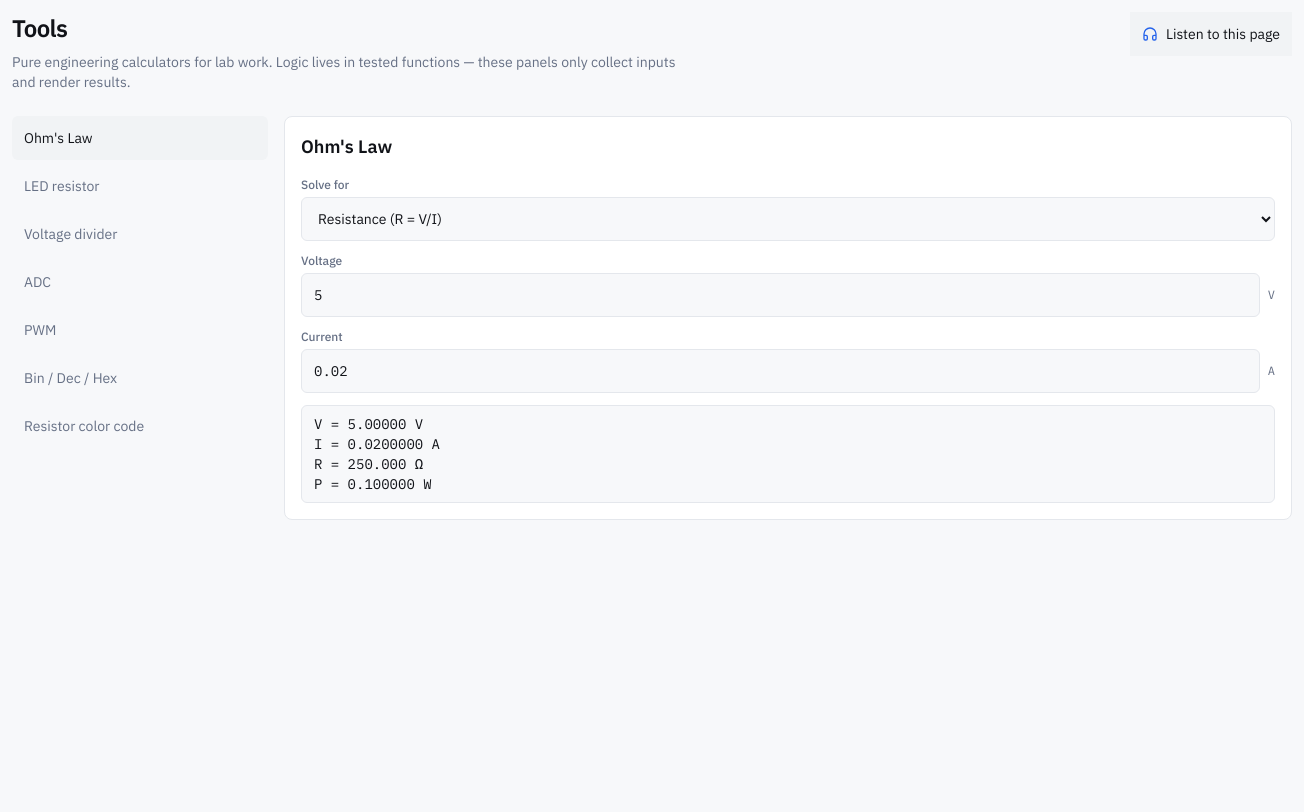
Test case: ToolsPage › switches calculators and computes Ohm’s law
The width and height of the screenshot is (1304, 812).
Expected: the heading "Tools" is shown, [12, 12, 67, 44]
Expected: the heading "Ohm's Law" is shown, [301, 135, 392, 158]
Click the button "LED resistor" at (140, 186), box [12, 164, 268, 208]
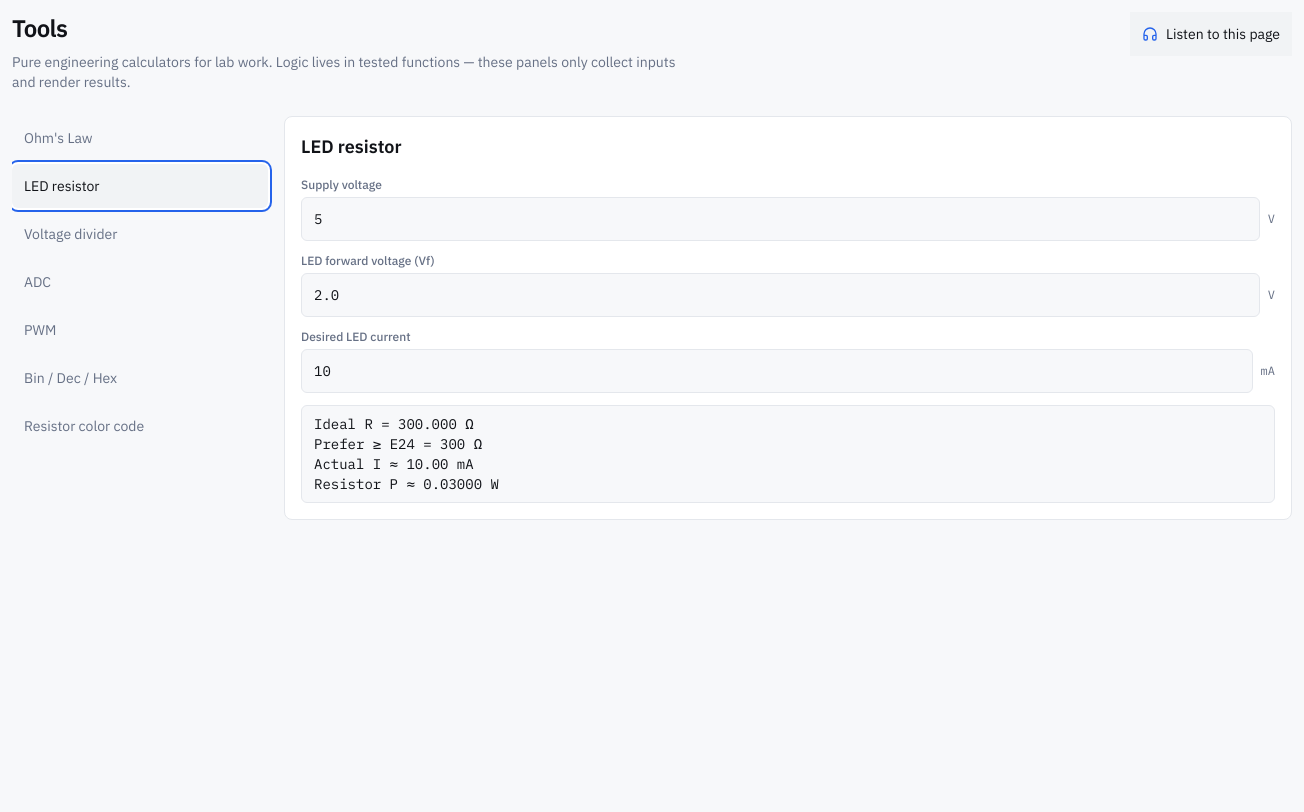
Expected: the heading "LED resistor" is shown, [301, 135, 402, 158]
Expected: the text "Ideal R = 300.000 Ω" is shown, [314, 415, 474, 433]
Click the button "Resistor color code" at (140, 426), box [12, 404, 268, 448]
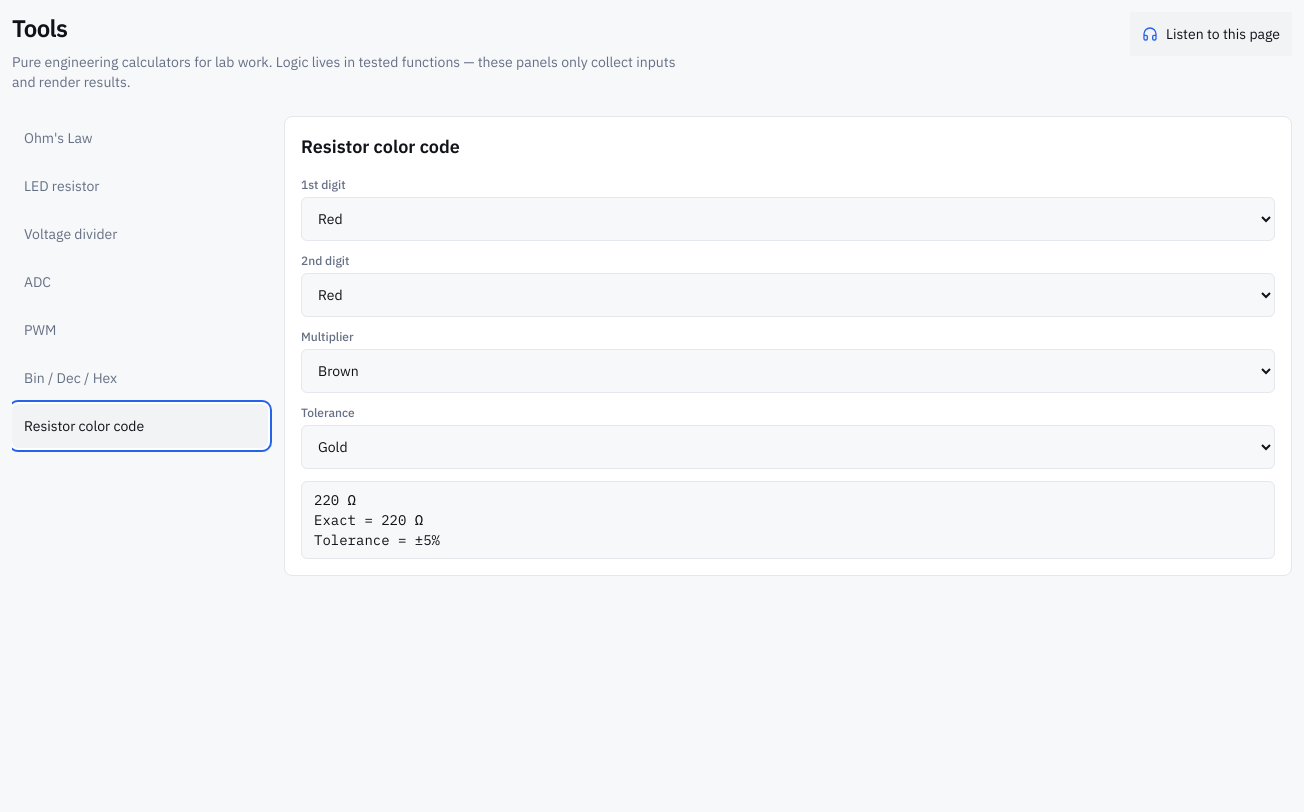
Expected: the text "220 Ω" is shown, [314, 491, 356, 509]
